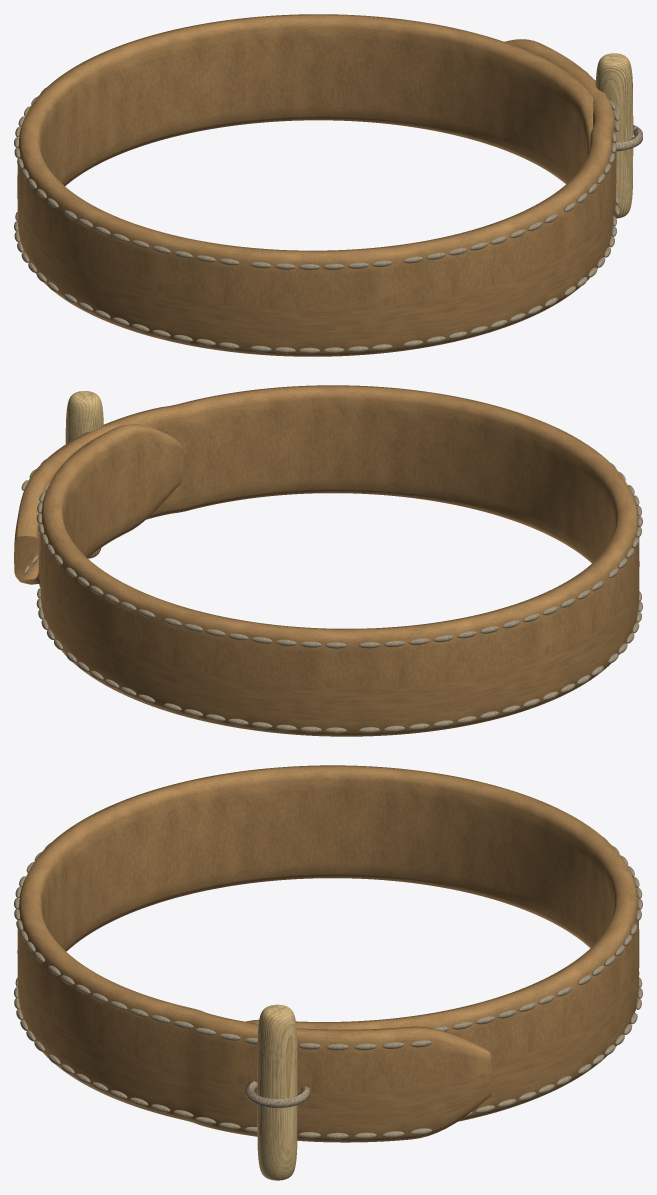
File: naturalna.glb
The picture shows the model from 3 angles, top to bottom: view 1: azimuth 30°, elevation 25°; view 2: azimuth 150°, elevation 25°; view 3: azimuth 270°, elevation 25°; orthographic projection. The views are drawn at different scales.
Visible parts, largest first — view 1: pas_skory, bead_peg_1; view 2: pas_skory, bead_peg_1; view 3: pas_skory, bead_peg_1, petla.
Part boxes in pixels (x1=…): pas_skory: x1=17, y1=14, x2=616, y2=356; bead_peg_1: x1=595, y1=53, x2=633, y2=218; pas_skory: x1=14, y1=385, x2=639, y2=736; bead_peg_1: x1=65, y1=391, x2=103, y2=558; pas_skory: x1=17, y1=765, x2=639, y2=1142; bead_peg_1: x1=257, y1=1004, x2=297, y2=1180; petla: x1=245, y1=1081, x2=309, y2=1108.
Bounding box in the file's own units: 6.86 × 1.84 × 6.27.
Materials: 3 (3 with a texture image).
